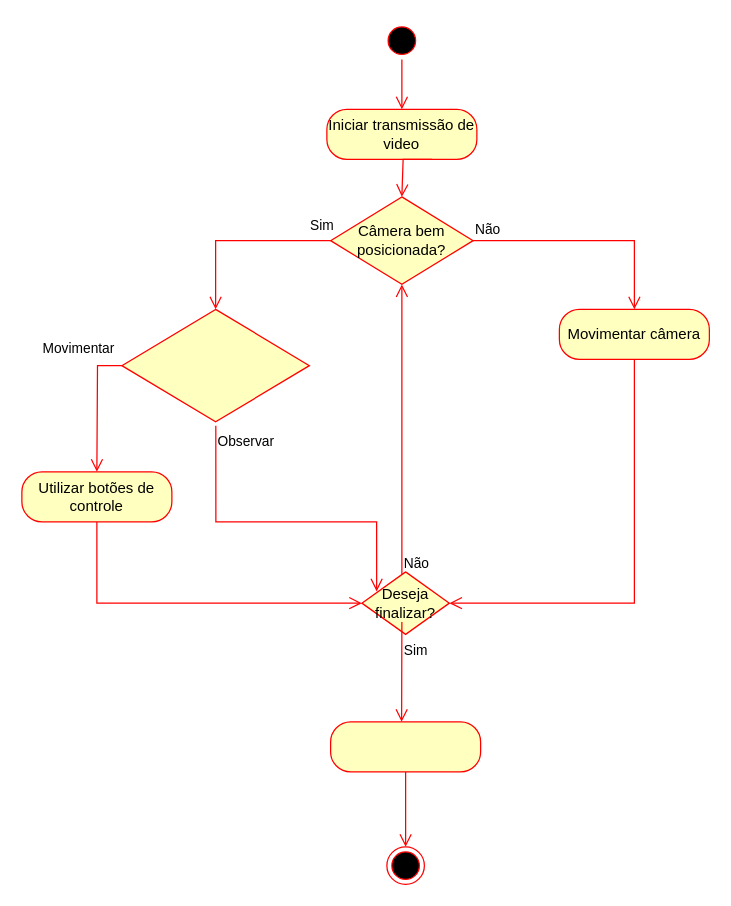
This 731x906 diagram has some shape labels left out. The shapes that lost their labels are listed below. From the top down, each one's centre as x and y in pixels, then its label:
At (x=215, y=365): "Deseja movimentar o drone ou apenas observar".
At (x=405, y=746): "Parar transmissão".
